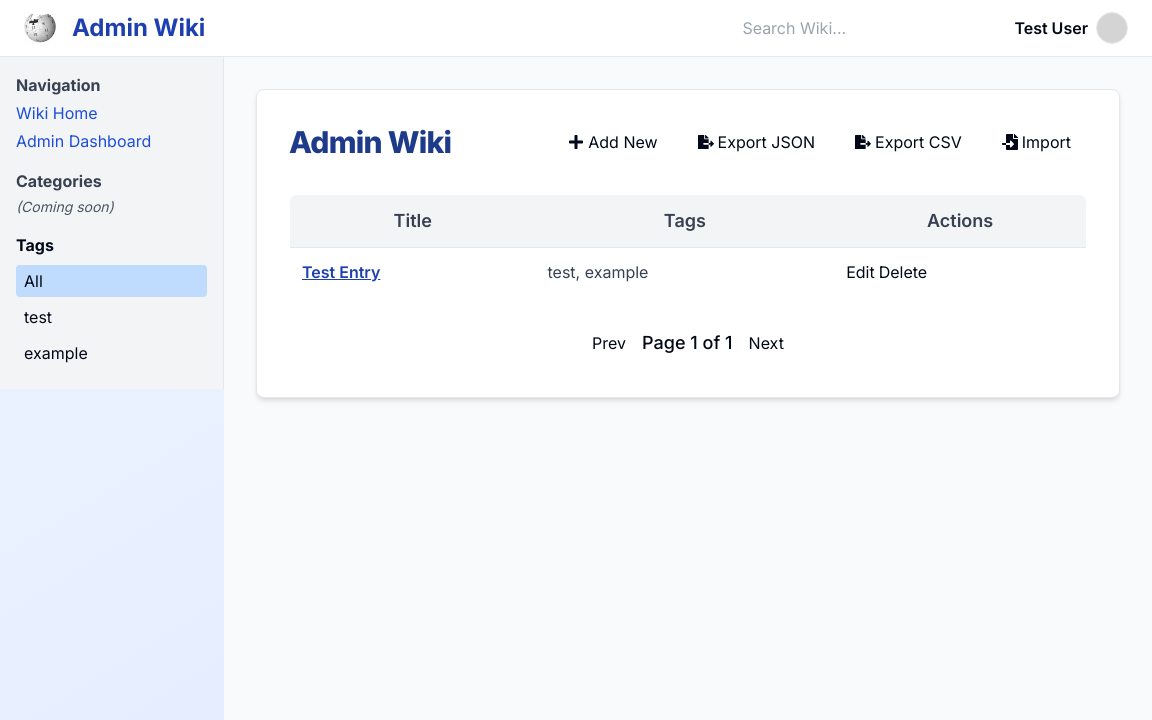
Scenario: AdminWiki (edit/delete) › allows admin to edit an entry
Expected: the text "Test Entry" is shown, [290,248,536,296]
Click the button with class "btn-info".
click(860, 272)  # box [846,260,875,284]
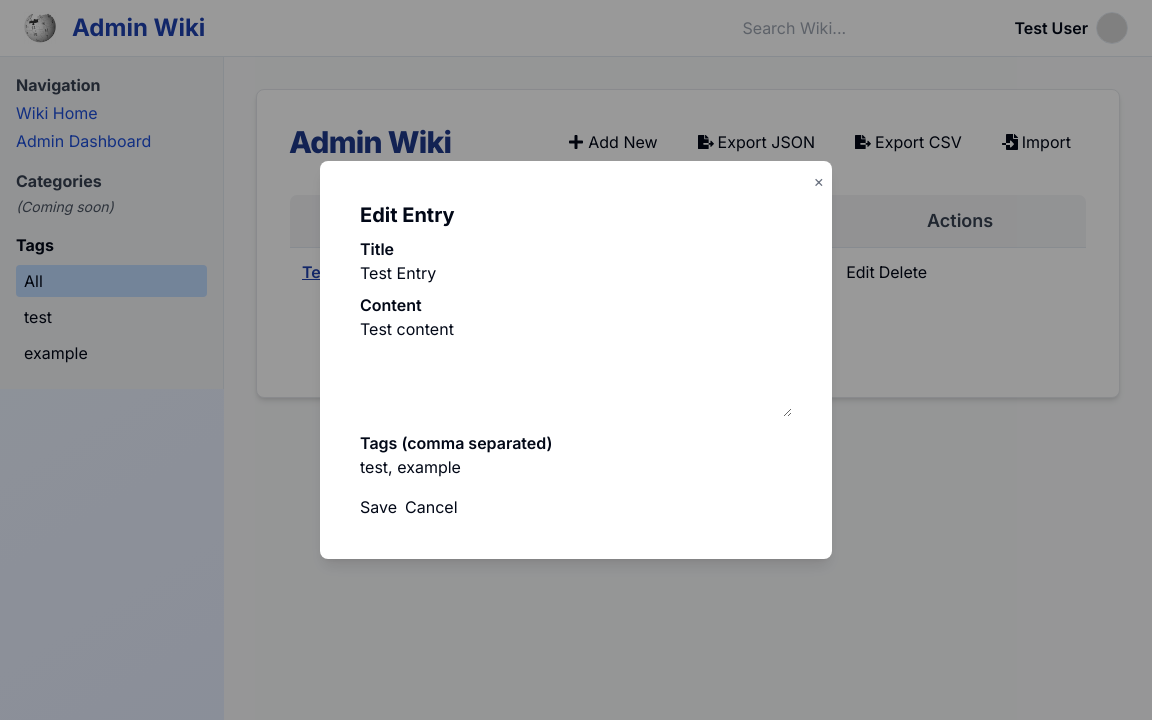
Expected: the heading "Edit Entry" is shown, [360,203,455,227]
# Fill out form
Replace the text in the field labelled "Title" with "Edited Entry" at (576, 273), box [360,261,792,285]
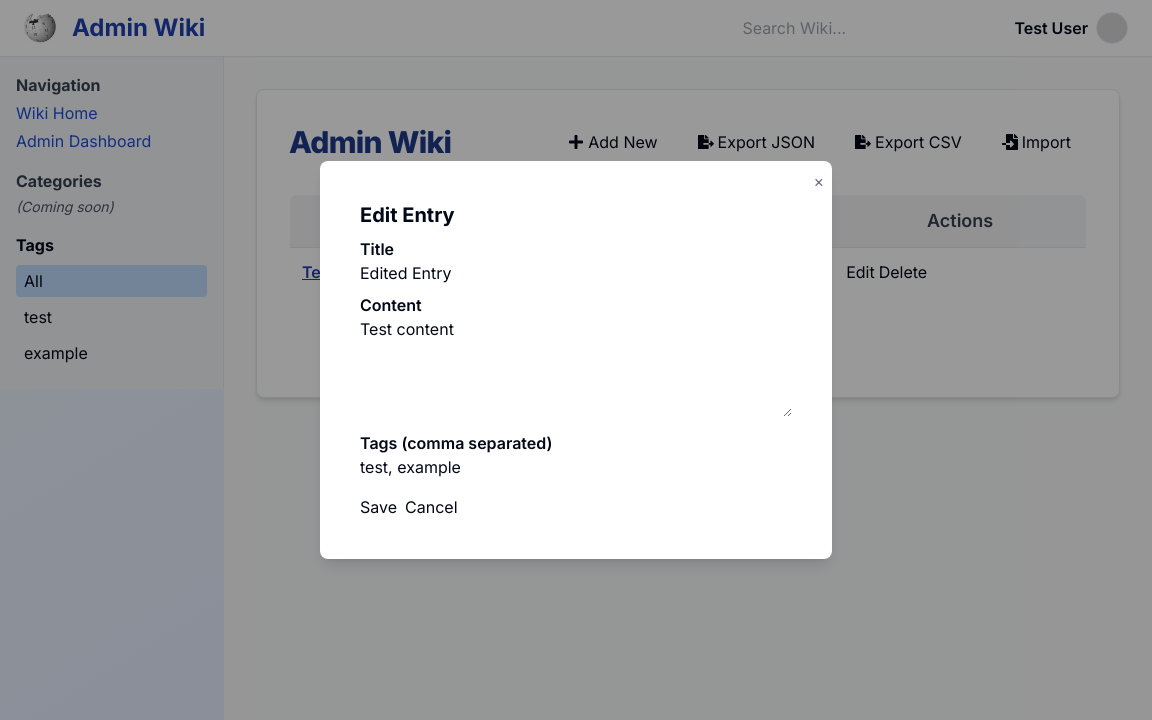
Replace the text in the text box labelled "Content" with "Edited content" at (576, 367), box [360,317,792,417]
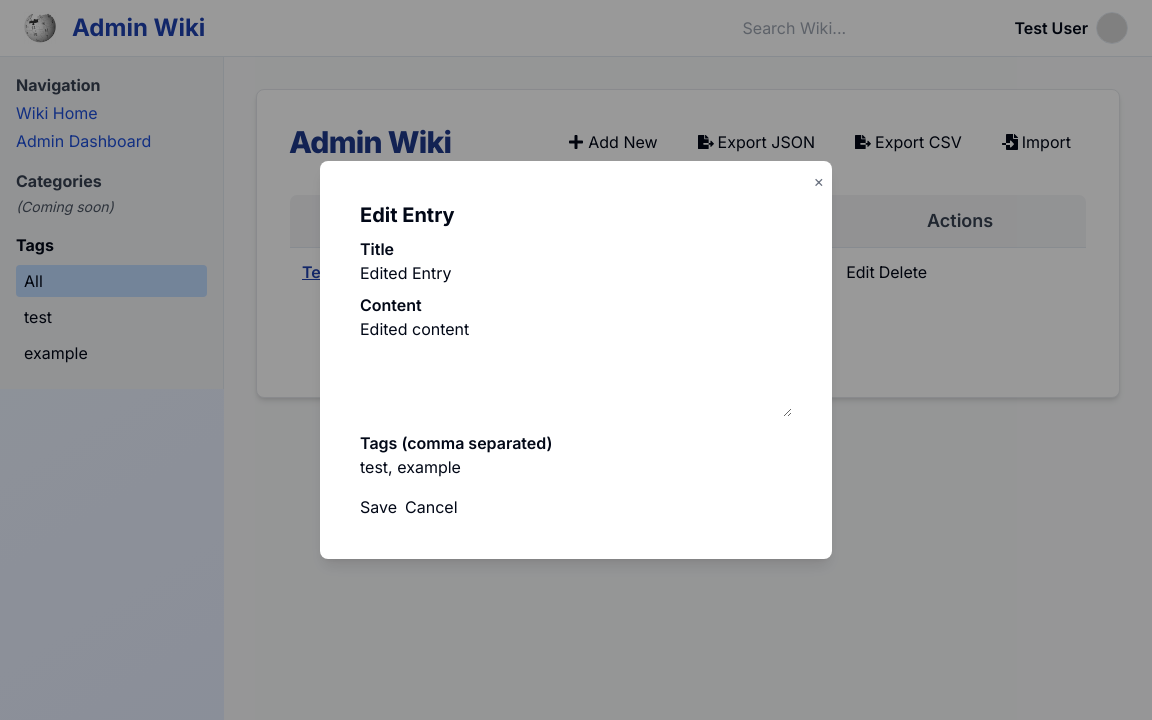
Replace the text in the field labelled "Tags (comma separated)" with "edited" at (576, 467), box [360,455,792,479]
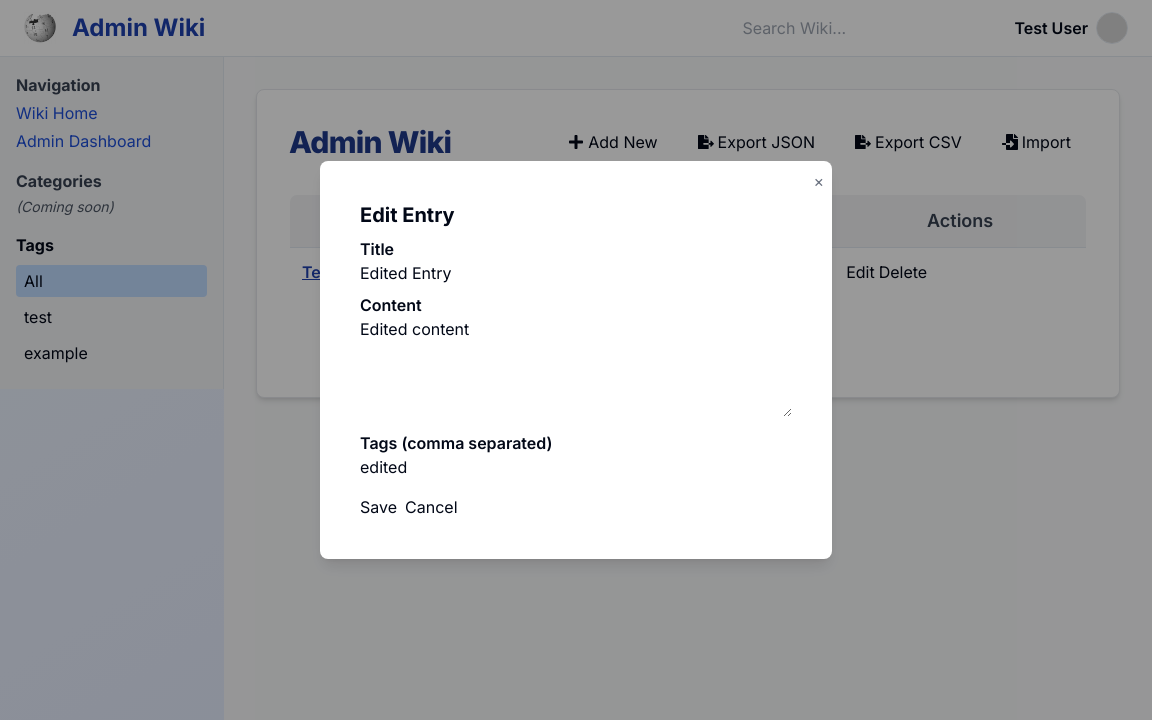
Click the button "Save".
click(378, 507)  # box [360,495,397,519]
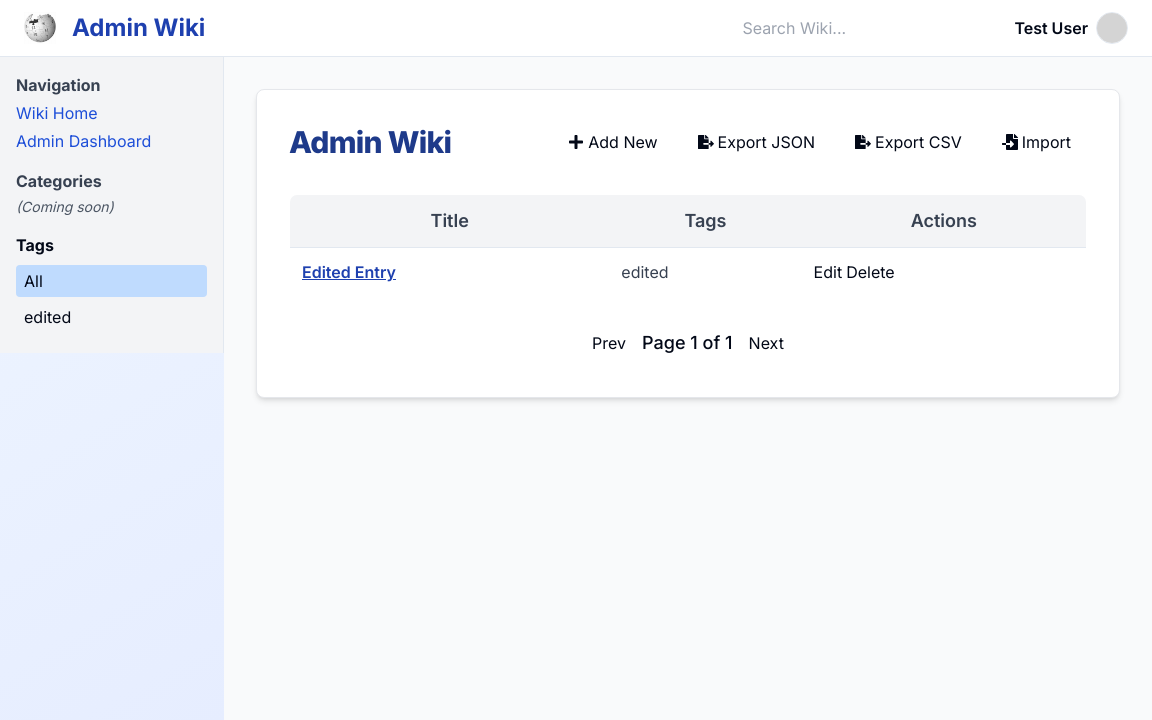
Expected: the text "Edited Entry" is shown, [290,248,609,296]
